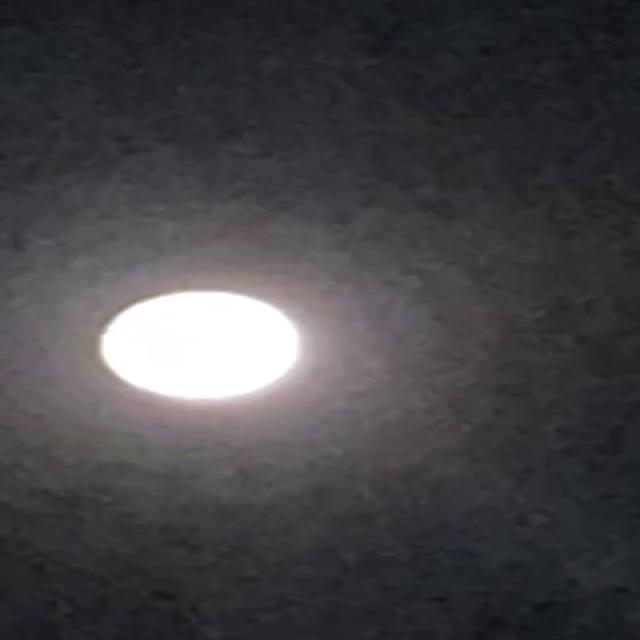moon: (77, 275, 312, 416)
